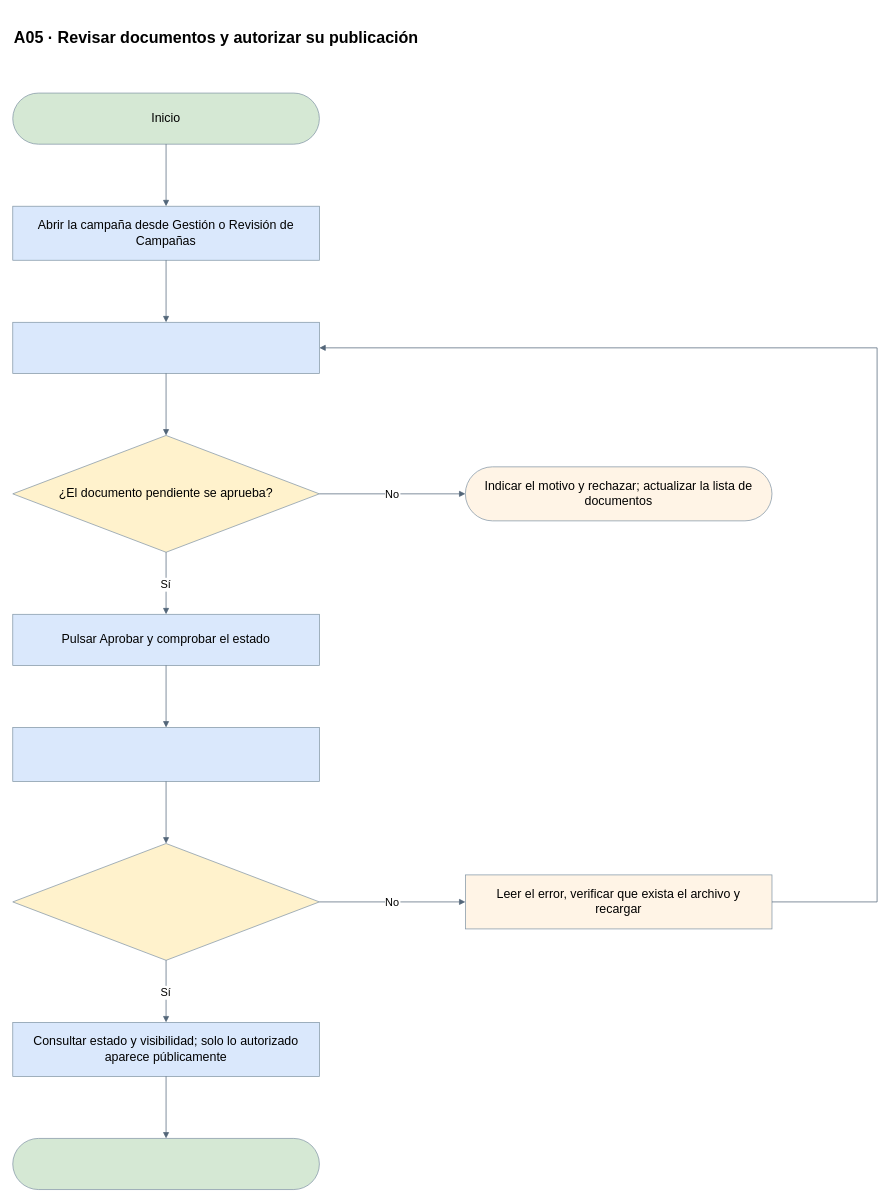
Some shapes in this 896 by 1202 pixel diagram are drawn without their labels. Here are the shapes that lost their labels. From the top down, the centre of each, then its label:
At point 165,347: "Entrar en Documentación y abrir el archivo".
At point 165,754: "En un documento aprobado, usar Publicar evidencia o Retirar publicación".
At point 165,901: "¿El cambio se guardó?".
At point 165,1164: "Fin".
